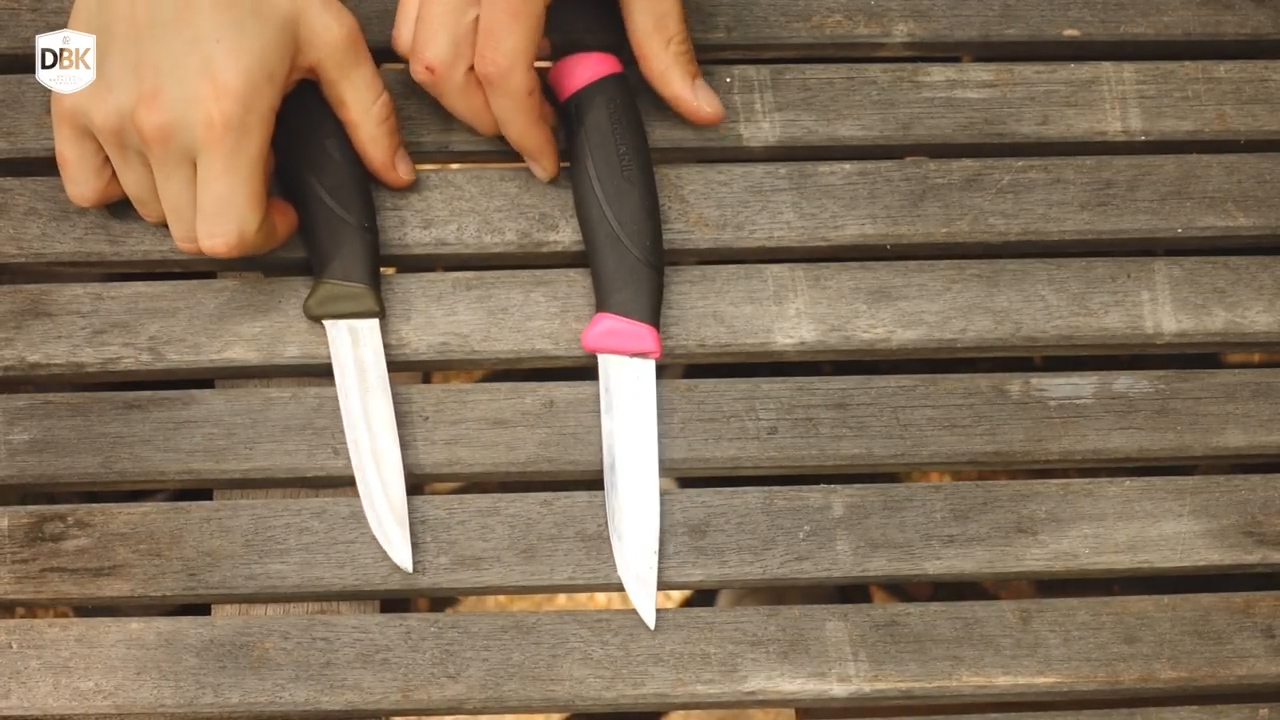knife: (166, 137, 436, 582), (565, 238, 687, 642)
